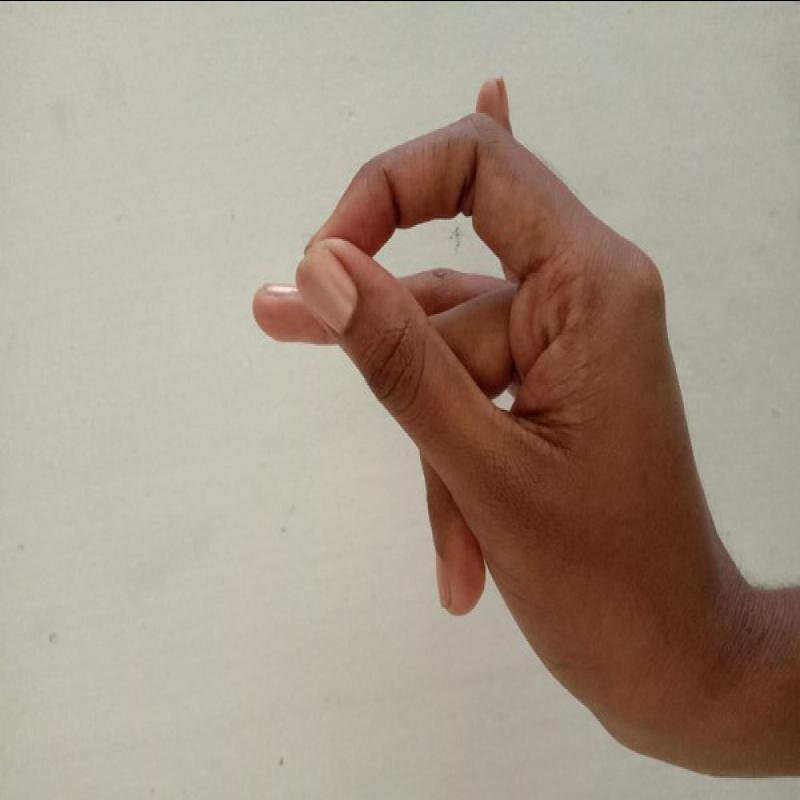Katakam: (243, 54, 715, 716)
